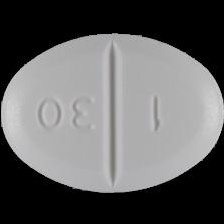42543-708: (0, 0, 224, 224)
